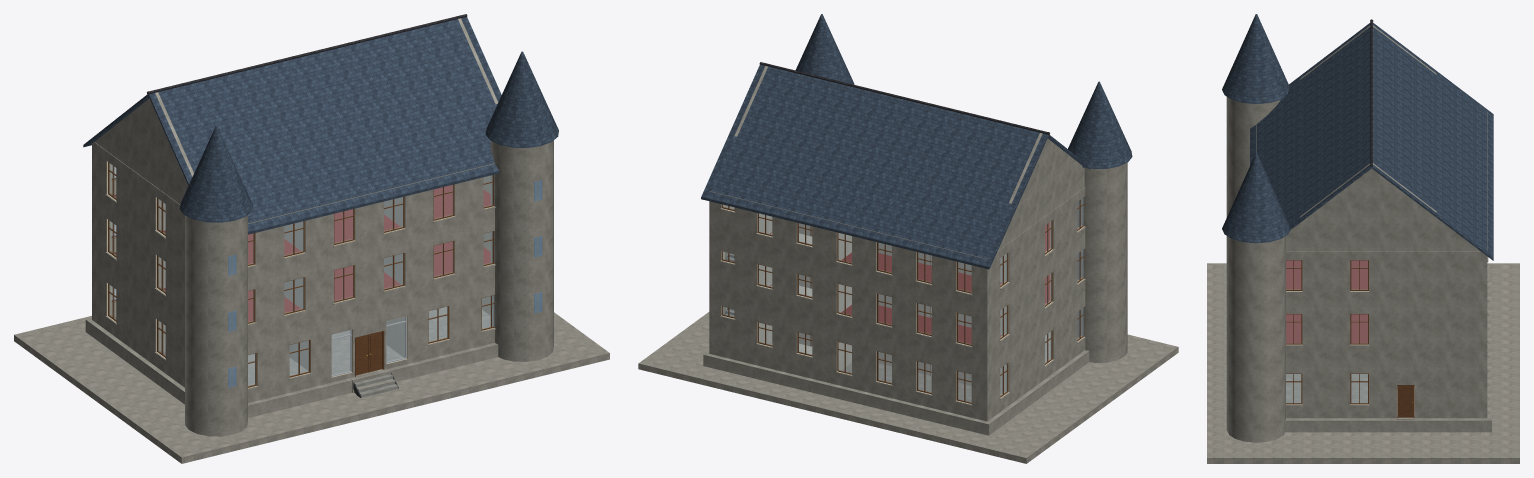
Rendered from b_mage_academy.gltf.
3 renders of one model, left to right at view 1: azimuth 30°, elevation 25°; view 2: azimuth 150°, elevation 25°; view 3: azimuth 270°, elevation 25°, orthographic. The views are drawn at different scales.
Parts seen in each view (by area): view 1: S_mage_academy; view 2: S_mage_academy; view 3: S_mage_academy, D_mage_academy_F1_E2_Door0.
Part boxes in pixels (x1,y1,x2,y2): S_mage_academy: (14, 14, 609, 463); S_mage_academy: (638, 14, 1178, 463); S_mage_academy: (1207, 14, 1519, 463); D_mage_academy_F1_E2_Door0: (1398, 385, 1413, 417).
Size of the model in its own units: 28 by 18.94 by 19.
21 materials, 12 textured.
